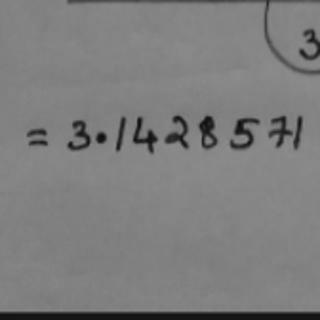.: (92, 126, 110, 148)
1: (115, 111, 125, 157), (294, 116, 304, 151)
2: (166, 115, 191, 150)
3: (67, 119, 91, 152), (299, 26, 320, 59)
4: (132, 114, 159, 155)
5: (229, 115, 258, 150)
7: (268, 116, 292, 150)
8: (197, 115, 221, 150)
